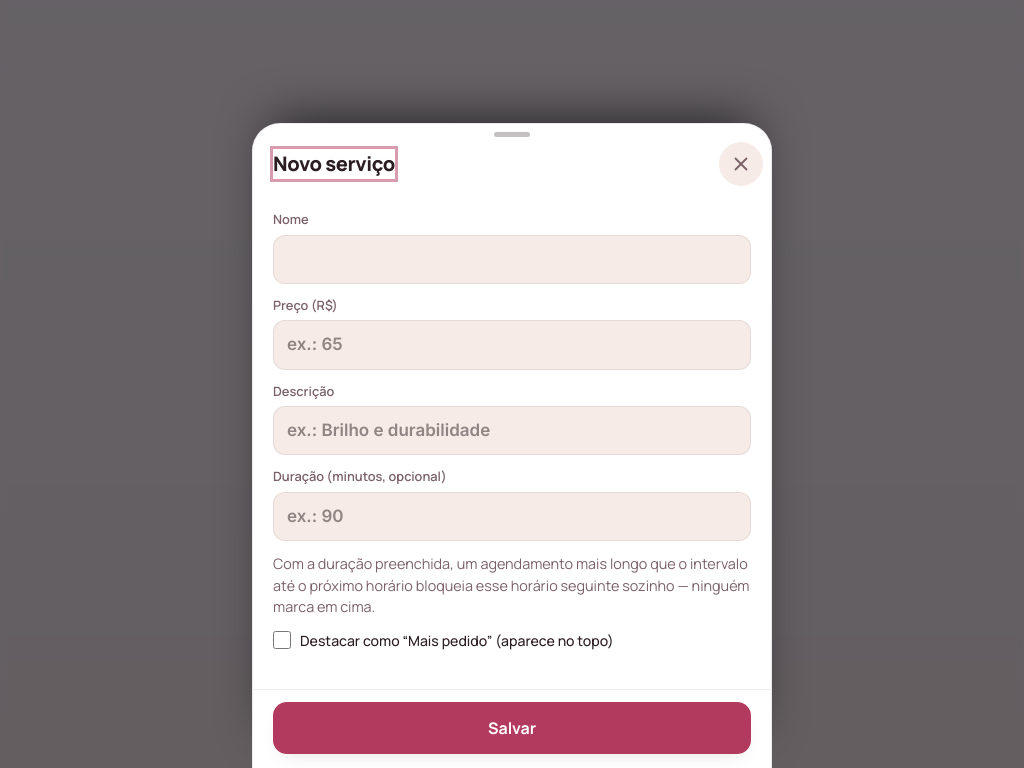
Test case: FolhaServico — criar › erro ao salvar mostra mensagem humana, sem código técnico
Type "X" into the field labelled "Nome".
click(512, 259); type("X")  # box 273,234 -> 751,284
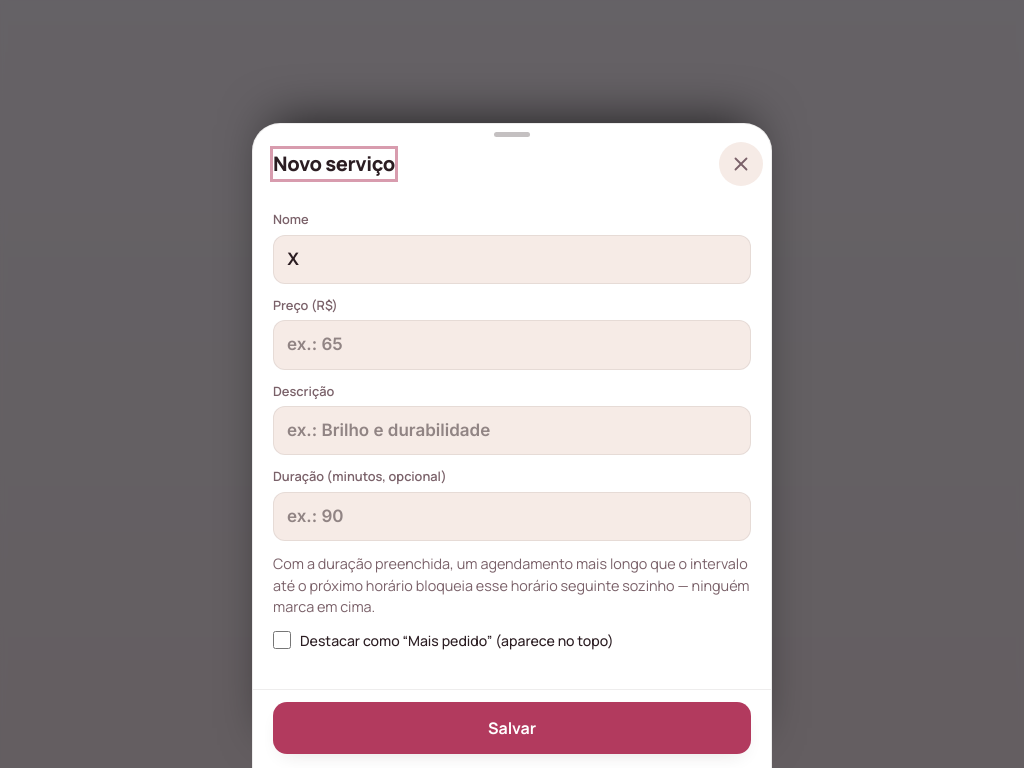
Type "10" into the field labelled "Preço (R$)".
click(512, 345); type("10")  # box 273,320 -> 751,370
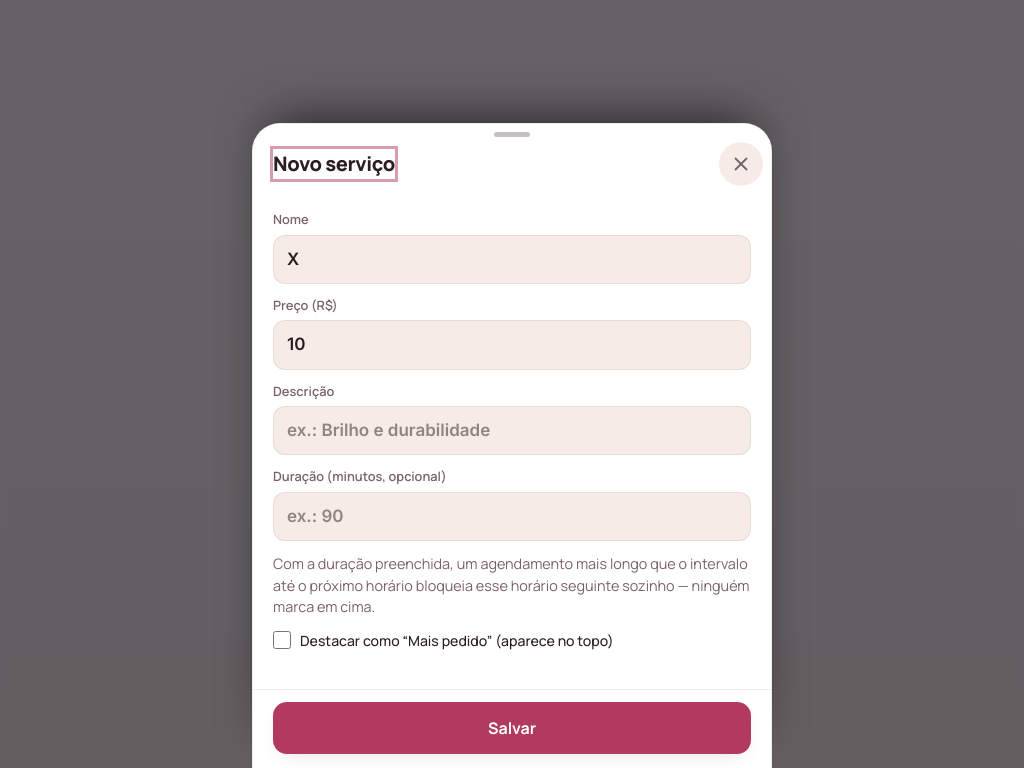
Click the button "Salvar".
click(512, 728)  # box 273,702 -> 751,754
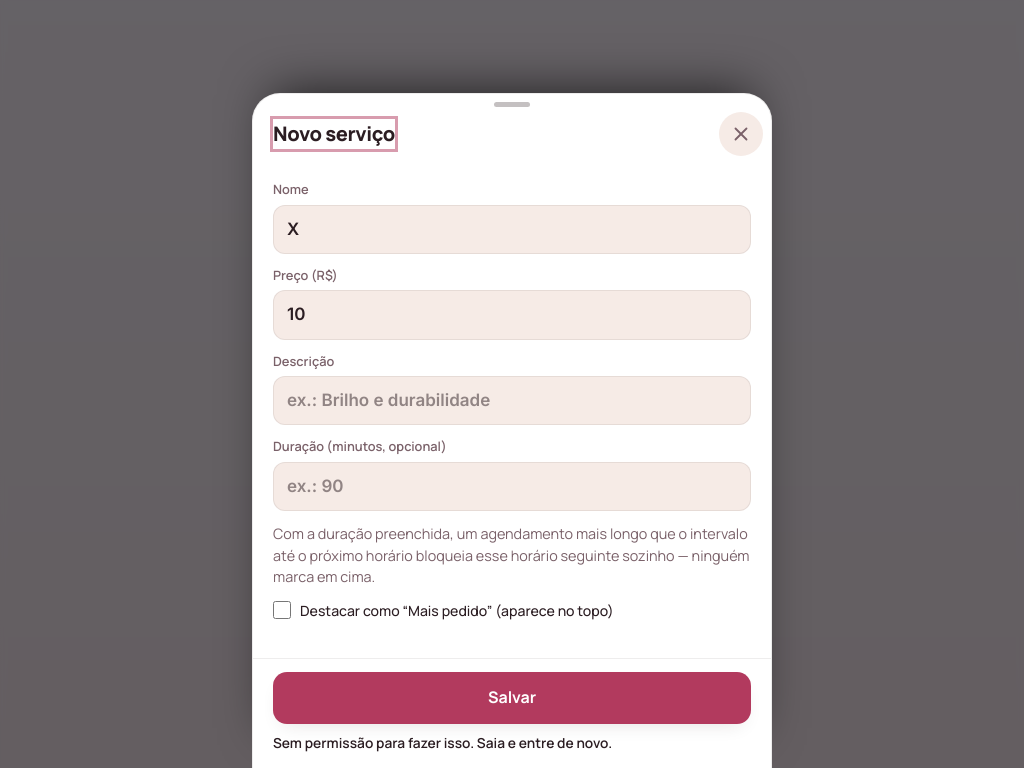
Expected: the text "Sem permissão para fazer isso. Saia e entre de novo." is shown, 273,733 -> 612,752
